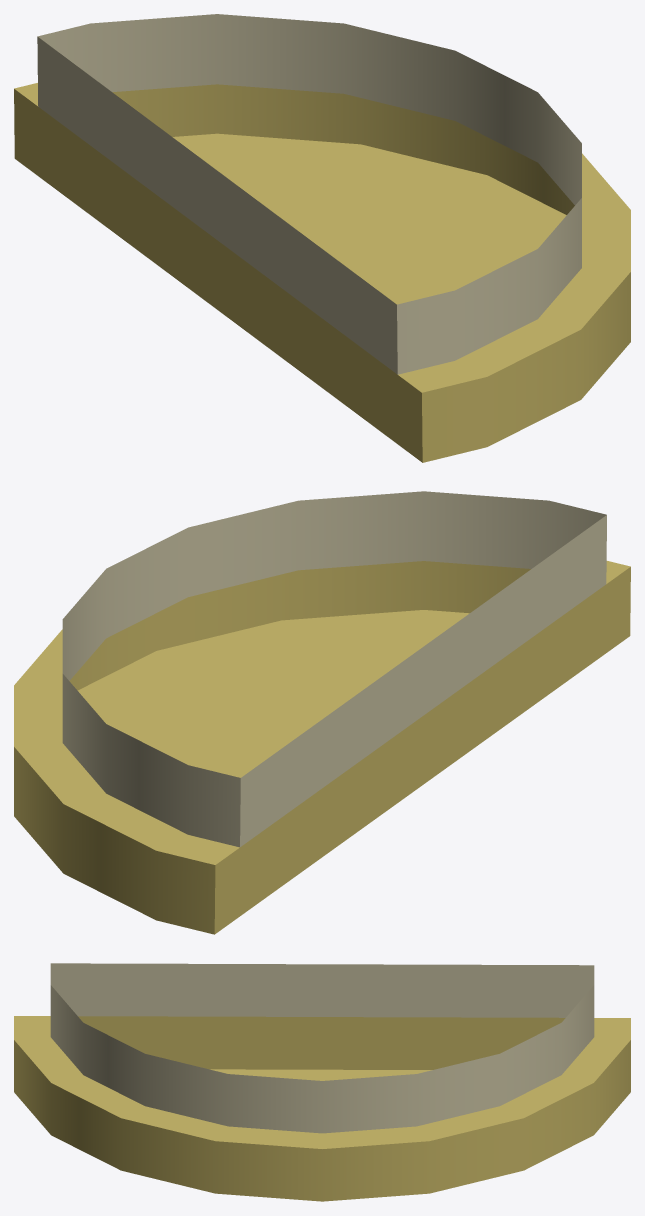
File: Prop_sci_lamp1.FBX
3 renders of one model, top to bottom at view 1: azimuth 30°, elevation 25°; view 2: azimuth 150°, elevation 25°; view 3: azimuth 270°, elevation 25°, orthographic. The views are drawn at different scales.
Parts seen in each view (by area): view 1: Prop_sci_lamp1; view 2: Prop_sci_lamp1; view 3: Prop_sci_lamp1.
Part boxes in pixels (x1=…): Prop_sci_lamp1: x1=14, y1=14, x2=630, y2=462; Prop_sci_lamp1: x1=14, y1=491, x2=630, y2=934; Prop_sci_lamp1: x1=14, y1=963, x2=630, y2=1201.
Size of the model in its own units: 41.56 by 15.25 by 81.27.
